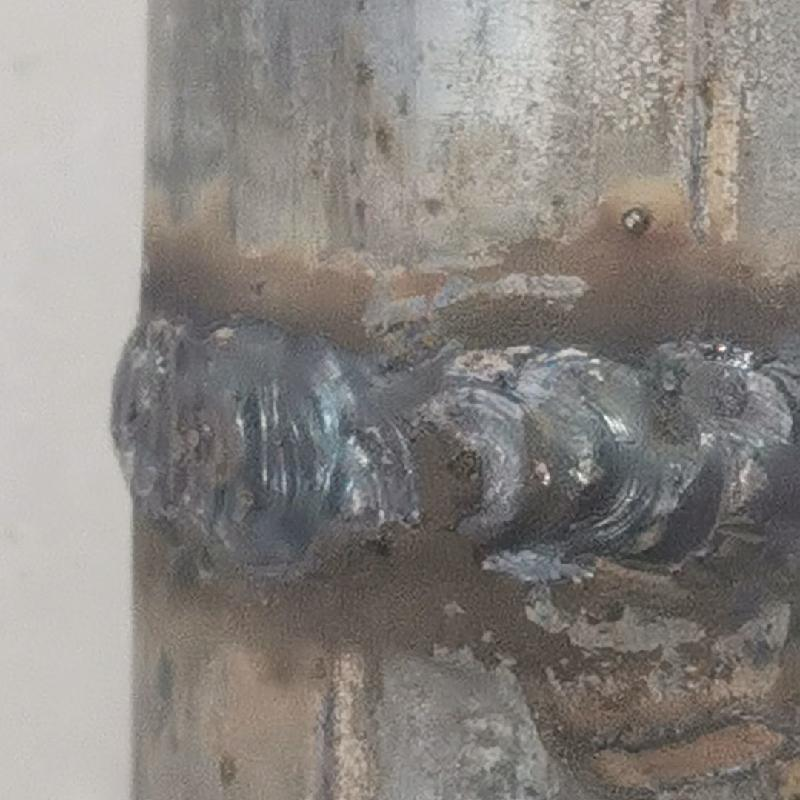good: (98, 305, 799, 573)
